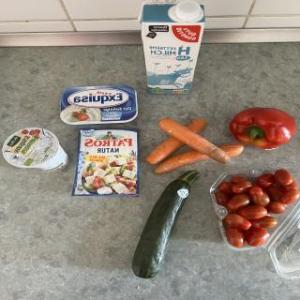carrot: (137, 118, 217, 168), (152, 144, 240, 176), (160, 120, 230, 156)
tomato: (206, 166, 296, 252)
zucchini: (127, 169, 200, 282)
